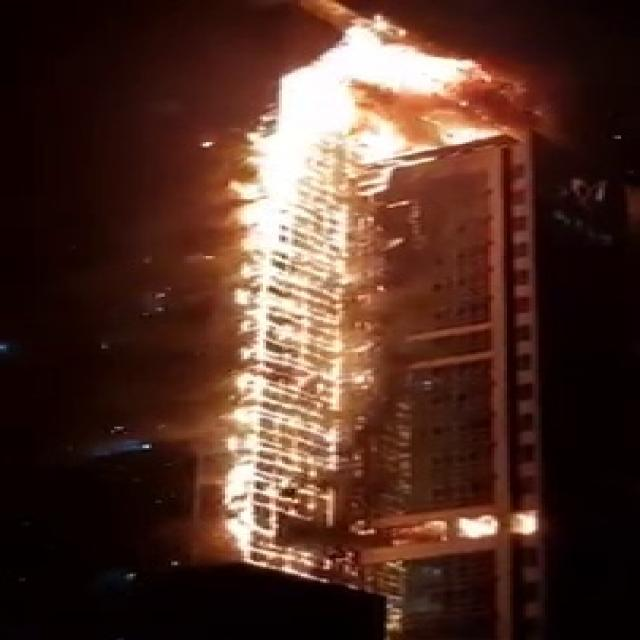Fire: (206, 9, 523, 546), (424, 494, 532, 534), (196, 524, 301, 564)
